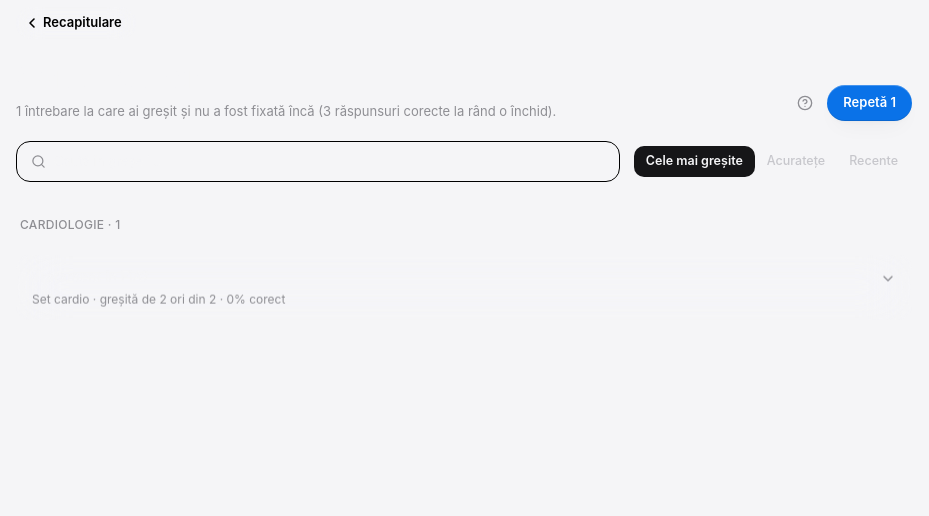
Test: ErrorNotebook › închide explicația la al doilea click (expandare/colapsare)
Click the button "Tratament în FiA" at (91,276), box [16,255,912,320]
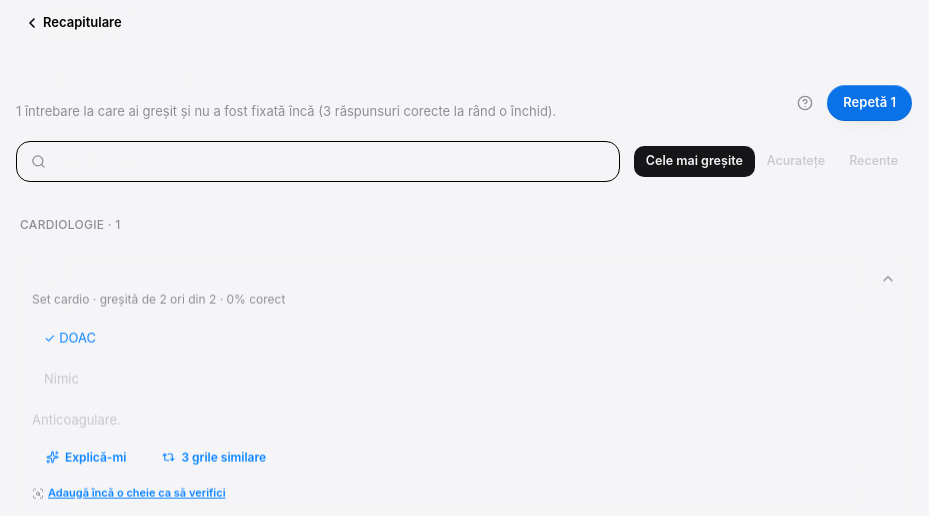
Expected: the text "Anticoagulare." is shown, [32,411,121,427]
Click the button "Tratament în FiA" at (91,276), box [16,255,912,320]
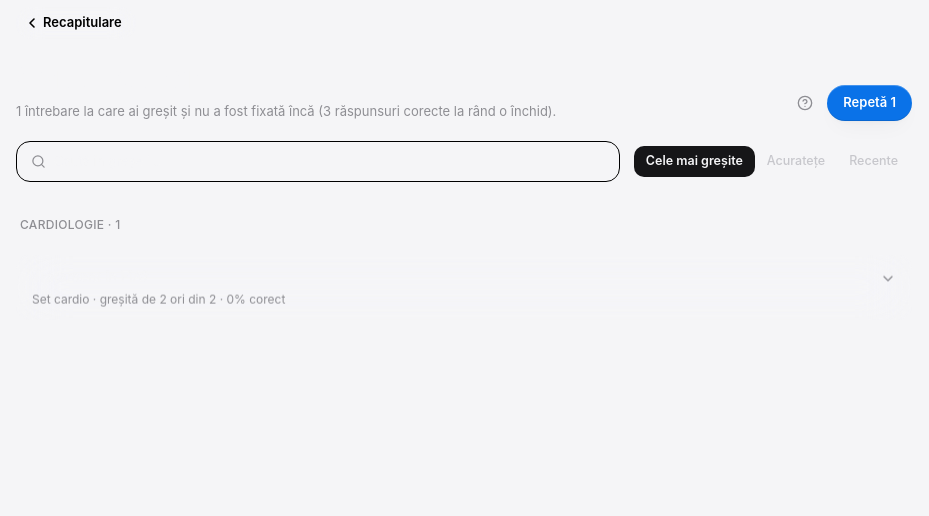
Expected: the text "Anticoagulare." is gone
